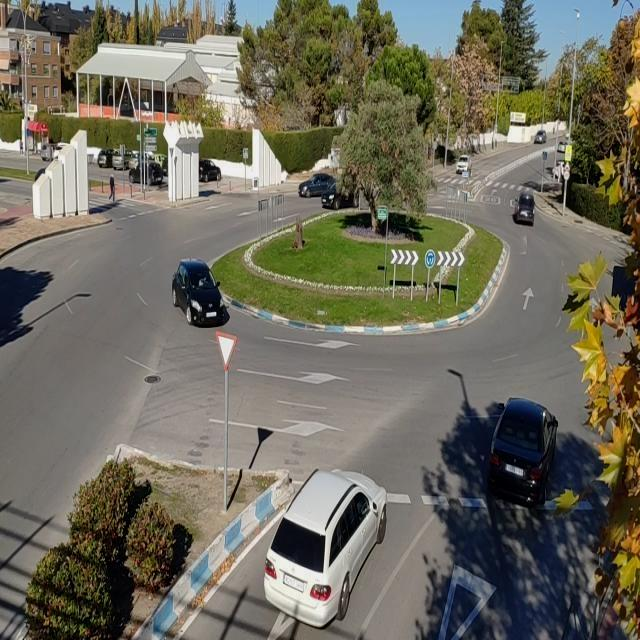Car: (263, 468, 388, 629), (485, 397, 558, 508), (171, 258, 225, 327), (320, 183, 360, 210), (297, 174, 336, 198), (129, 162, 163, 185), (513, 191, 536, 224), (126, 152, 156, 172), (112, 149, 138, 170), (198, 159, 221, 182), (97, 149, 118, 168), (153, 153, 168, 175), (456, 155, 472, 175), (53, 142, 69, 161), (40, 144, 57, 161), (552, 161, 566, 180), (556, 140, 570, 155), (534, 130, 547, 144), (161, 156, 168, 177)
